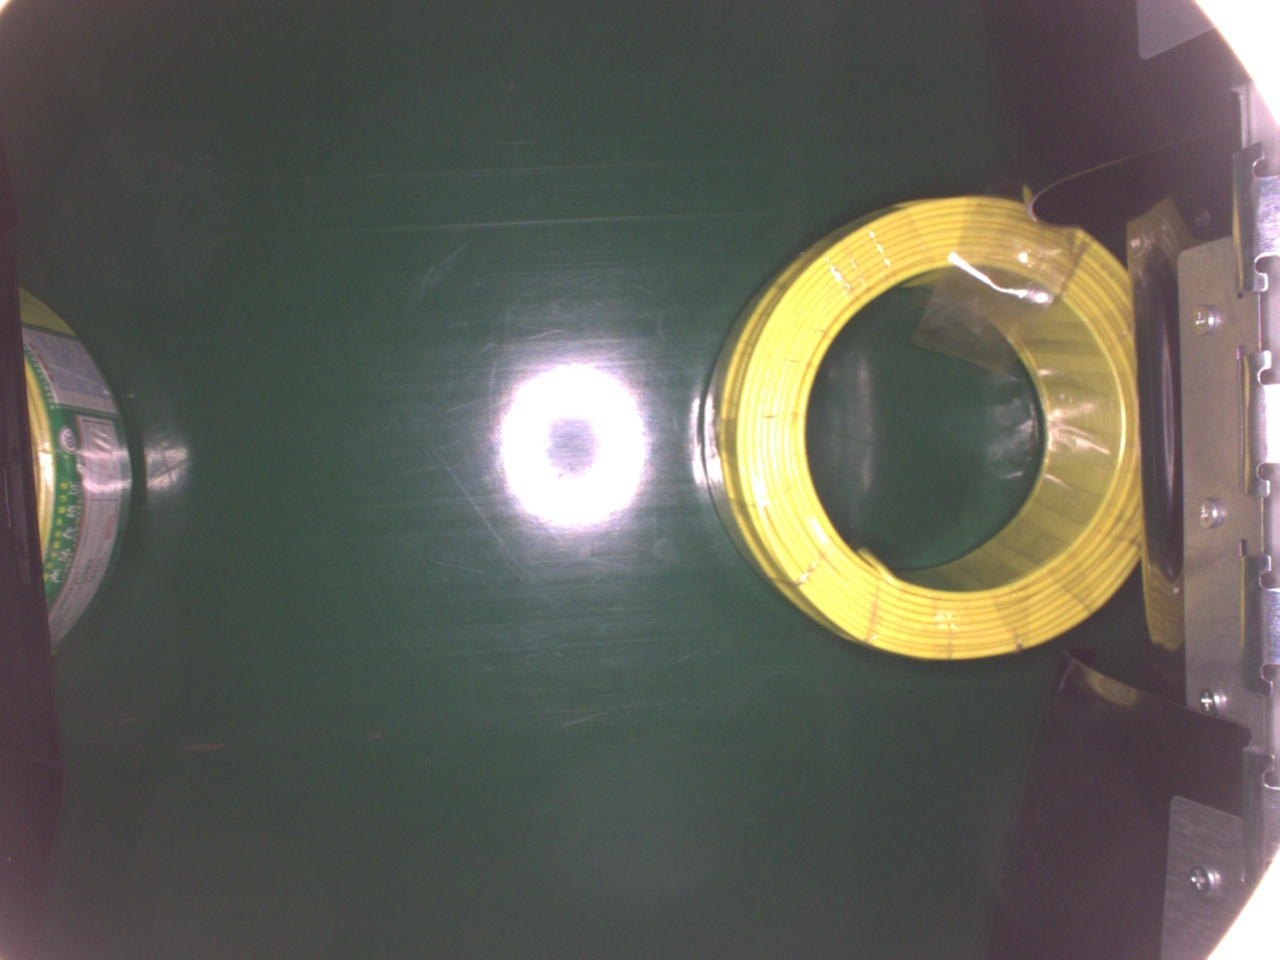yellow: (696, 191, 1136, 663)
